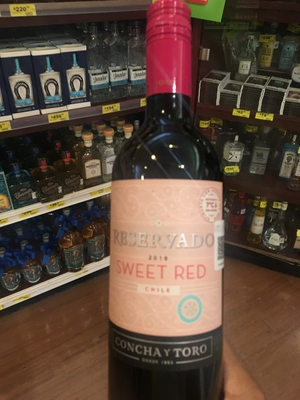reservado sweet red: (96, 4, 246, 400)
